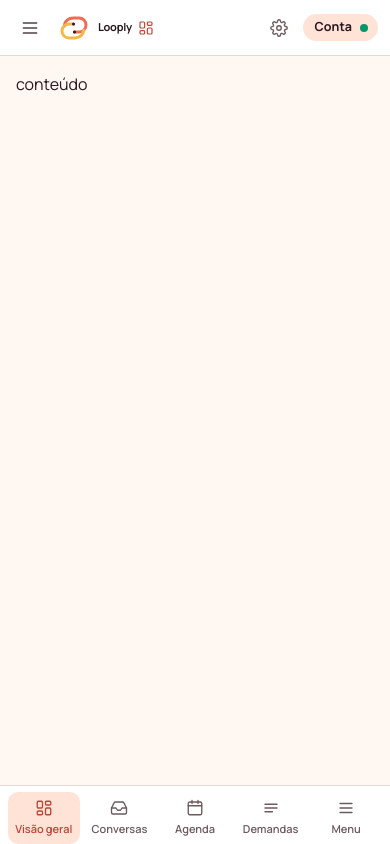
Test: mobile app shell › account menu exposes Conversas, Equipe, Configurações and Sair; Escape closes; no dead clones or unrouted destinations
Click the button "Conta".
click(340, 28)  # box [303,14,378,41]
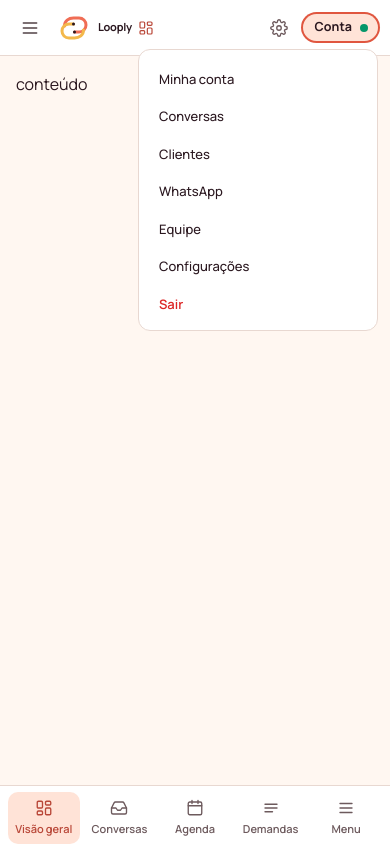
expect the button "Sair" is shown: met, box [147,287,369,322]
Press Escape
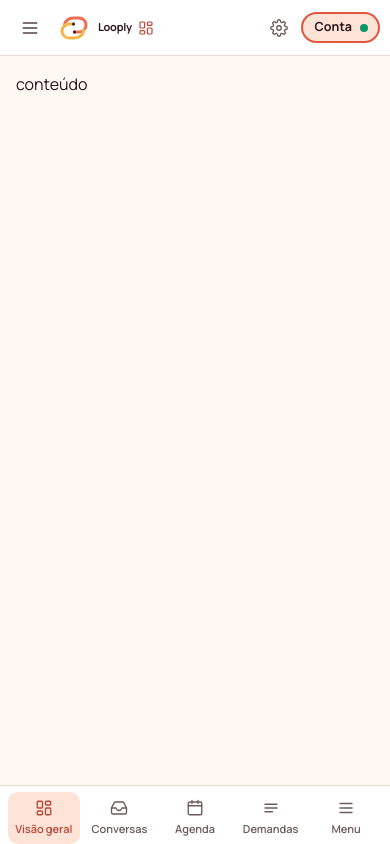
expect the menu is gone: met
